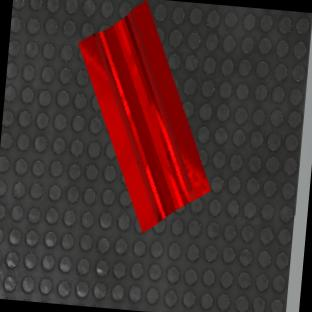objects: (70, 0, 221, 237)
